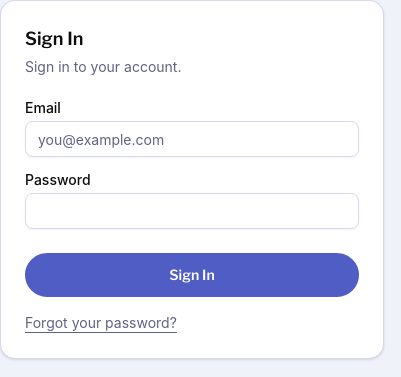
Test case: AuthPage › ResetPasswordForm › shows a fallback error message when the API returns no error field
The image size is (401, 377).
Step 1. Click the button "Forgot your password?" → (101, 323), box [25,313,177,333]
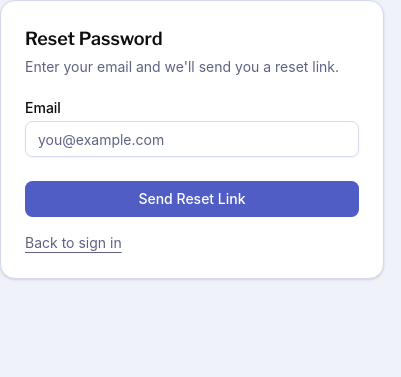
Step 2. Submit the form "Email Send Reset Link", box [25,101,359,217]
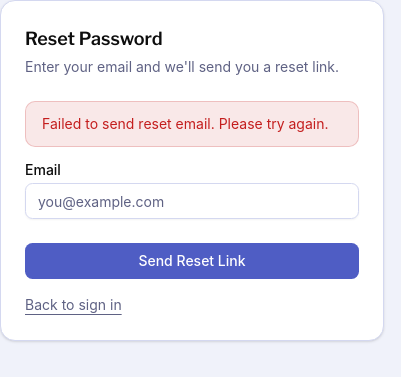
expect the message shows "Failed to send reset email": met, box [42,115,328,132]
